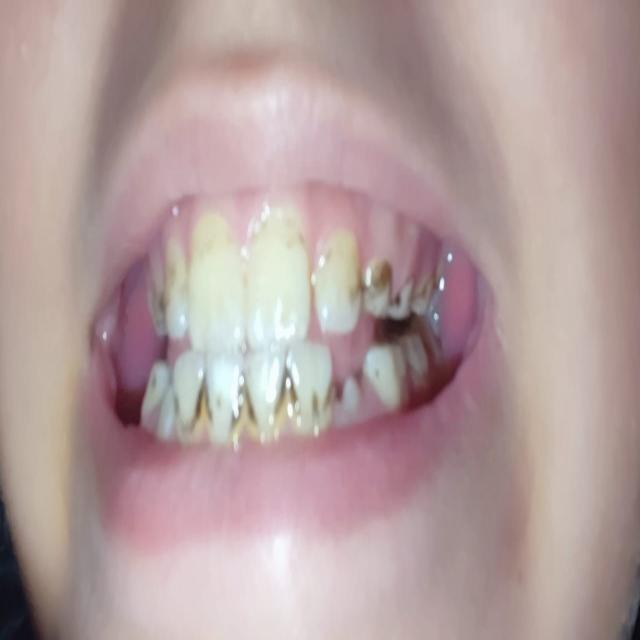tooth: (244, 215, 314, 341), (182, 220, 244, 351), (245, 336, 283, 443), (290, 340, 332, 435), (317, 239, 359, 332), (206, 344, 243, 442), (170, 342, 206, 434), (163, 262, 193, 336)
